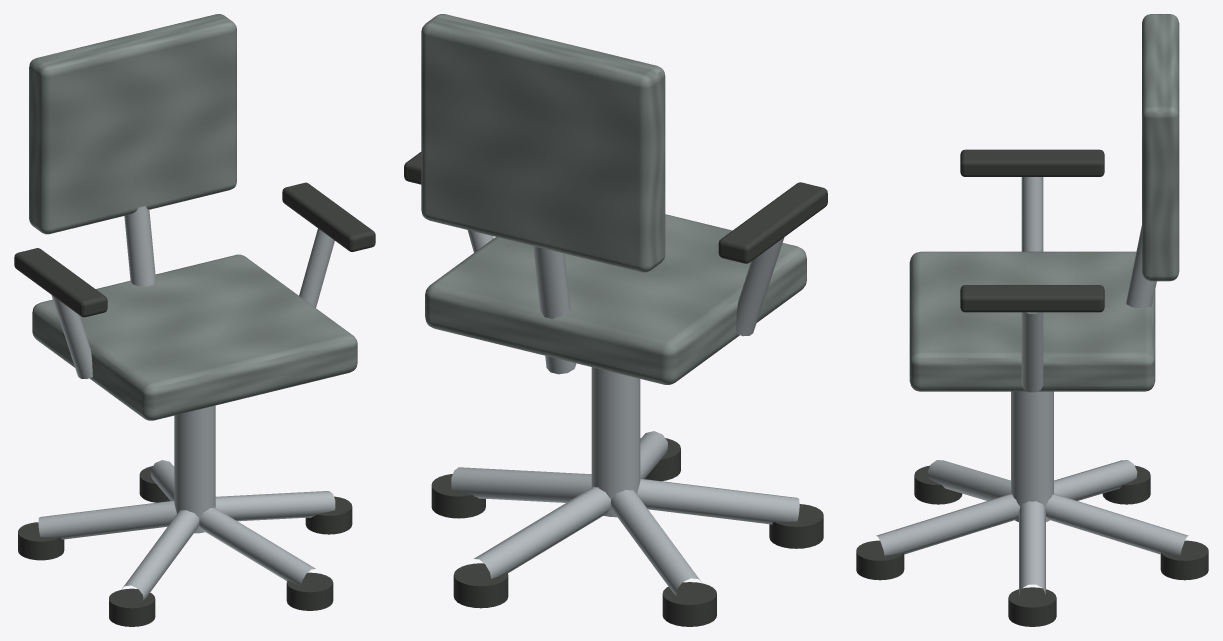
The model's file is liminal-spaces-kit-office-chair-b1ee59e4__25247.glb.
The picture shows the model from 3 angles, left to right: view 1: azimuth 30°, elevation 25°; view 2: azimuth 150°, elevation 25°; view 3: azimuth 270°, elevation 25°; orthographic projection. The views are drawn at different scales.
Visible parts, largest first — view 1: office-chair; view 2: office-chair; view 3: office-chair.
Part boxes in pixels (x1,y1,x2,y2): office-chair: (14,14,375,626); office-chair: (404,14,827,626); office-chair: (856,14,1208,626).
Bounding box in the file's own units: 0.675 × 1.01 × 0.6607.
3 materials, 1 textured.
